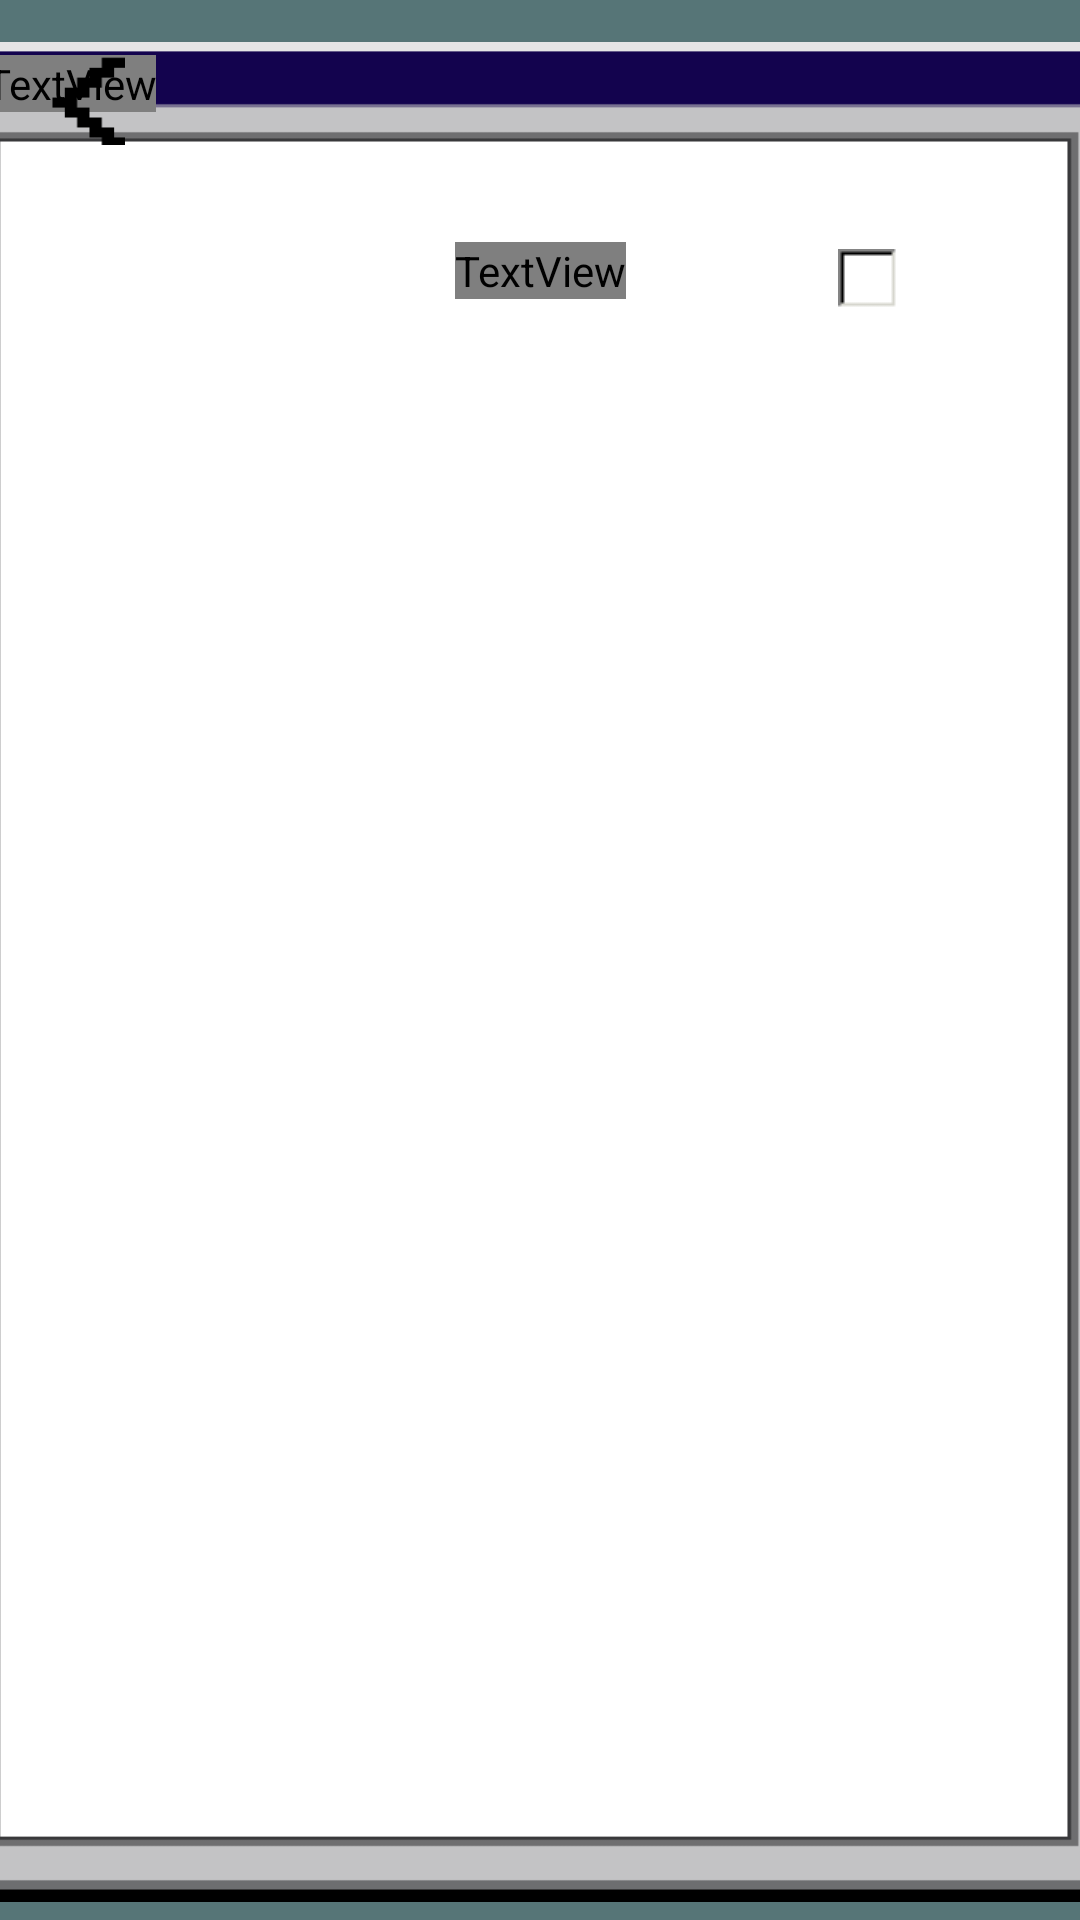

Named icons in this screenshot (1080*1920) and their centers, [x,y]:
checkbox: [867,278]
